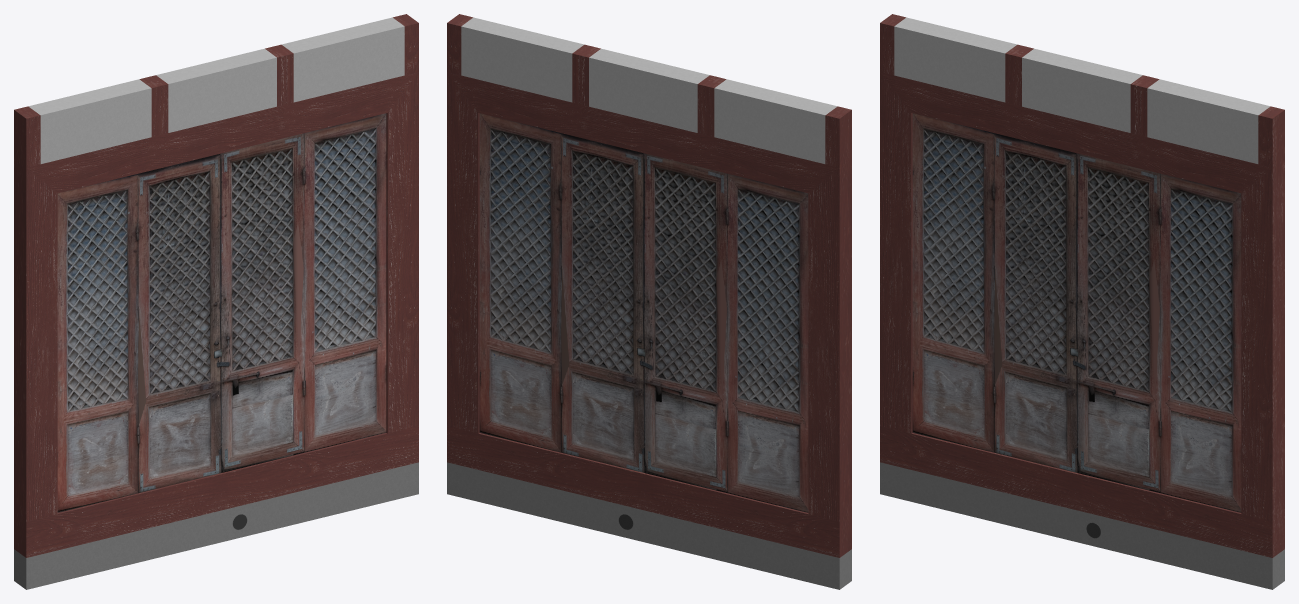
The model's file is SM_Sun_Bul_Wall_D.fbx.
The picture shows the model from 3 angles, left to right: view 1: azimuth 30°, elevation 25°; view 2: azimuth 150°, elevation 25°; view 3: azimuth 330°, elevation 25°; orthographic projection.
Parts seen in each view (by area): view 1: SM_Sun_Bul_Wall_D; view 2: SM_Sun_Bul_Wall_D; view 3: SM_Sun_Bul_Wall_D.
Boxes of the visible parts, box(x1,y1,x2,y2) form: SM_Sun_Bul_Wall_D: box(14, 14, 418, 589); SM_Sun_Bul_Wall_D: box(447, 14, 851, 589); SM_Sun_Bul_Wall_D: box(880, 14, 1284, 589).
Bounding box in the file's own units: 276 × 317 × 15.
